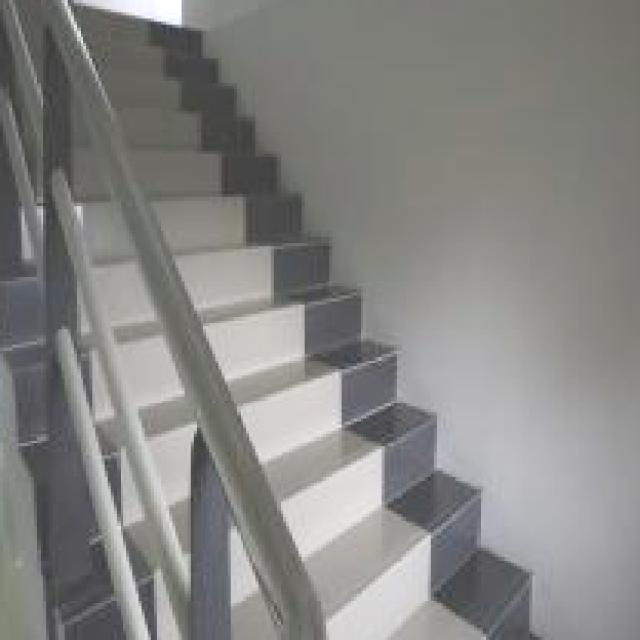upstair: (198, 87, 327, 333)
